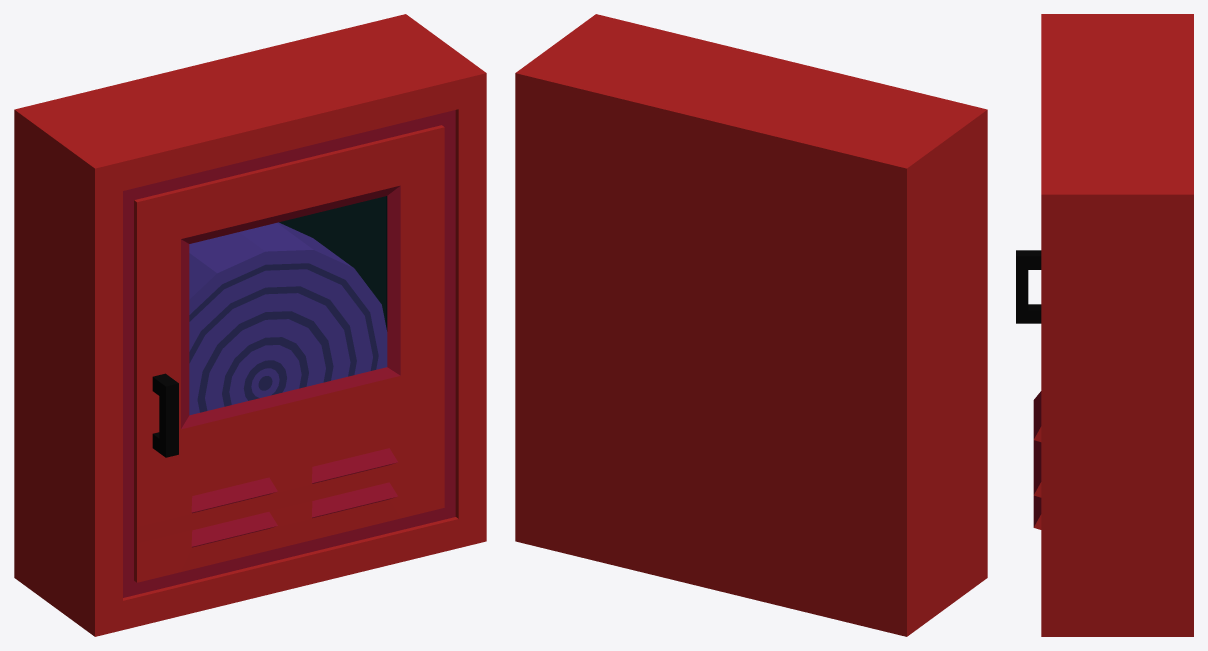
File: Save.fbx
3 views of the same model, side by side, from view 1: azimuth 30°, elevation 25°; view 2: azimuth 150°, elevation 25°; view 3: azimuth 270°, elevation 25° (orthographic). The views are drawn at different scales.
Parts seen in each view (by area): view 1: Save; view 2: Save; view 3: Save.
Boxes of the visible parts, <box> form: Save: <box>14,14,486,636</box>; Save: <box>515,14,987,636</box>; Save: <box>1016,14,1193,636</box>.
Size of the model in its own units: 1400 by 1600 by 583.
